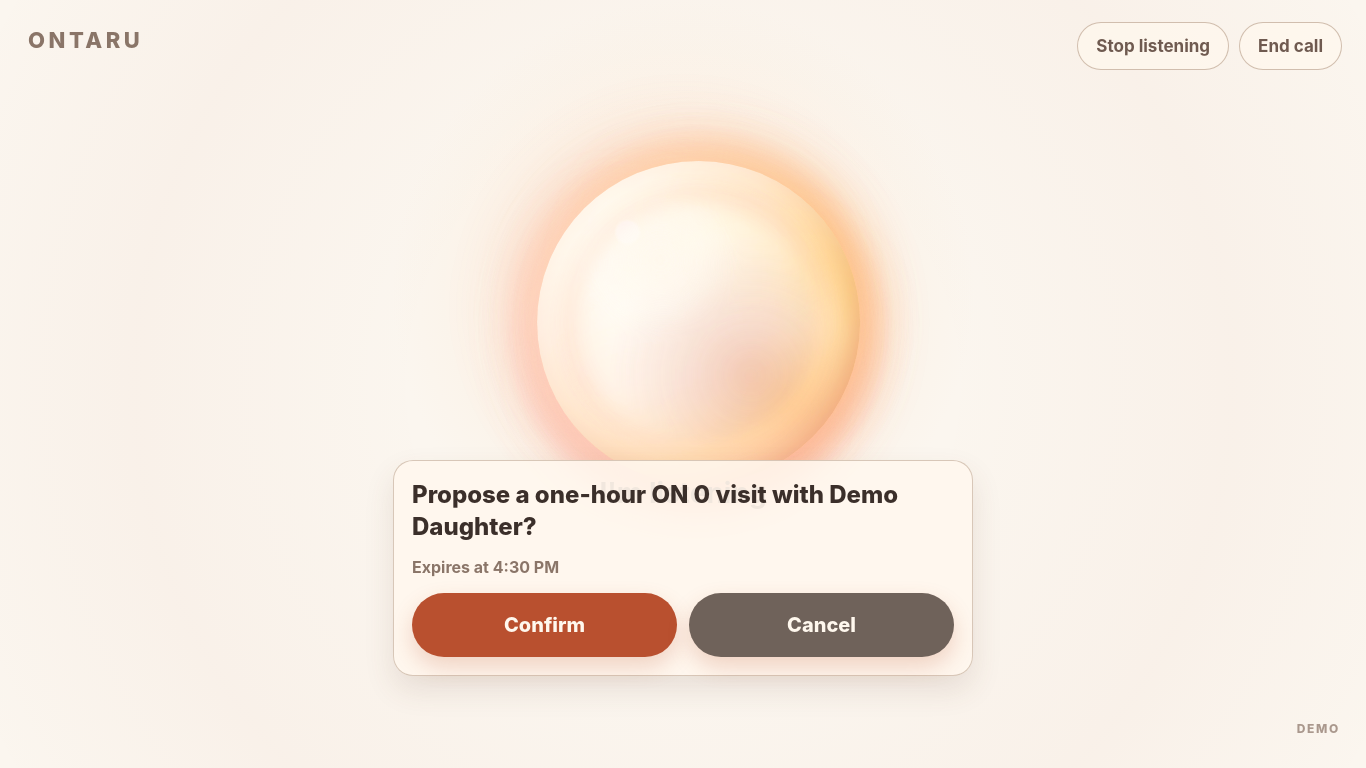
Scenario: resident assistant surface › HTTP 410 clears the stale confirmation and announces that it expired
Click the button "Confirm".
click(544, 625)  # box [412,593,677,657]
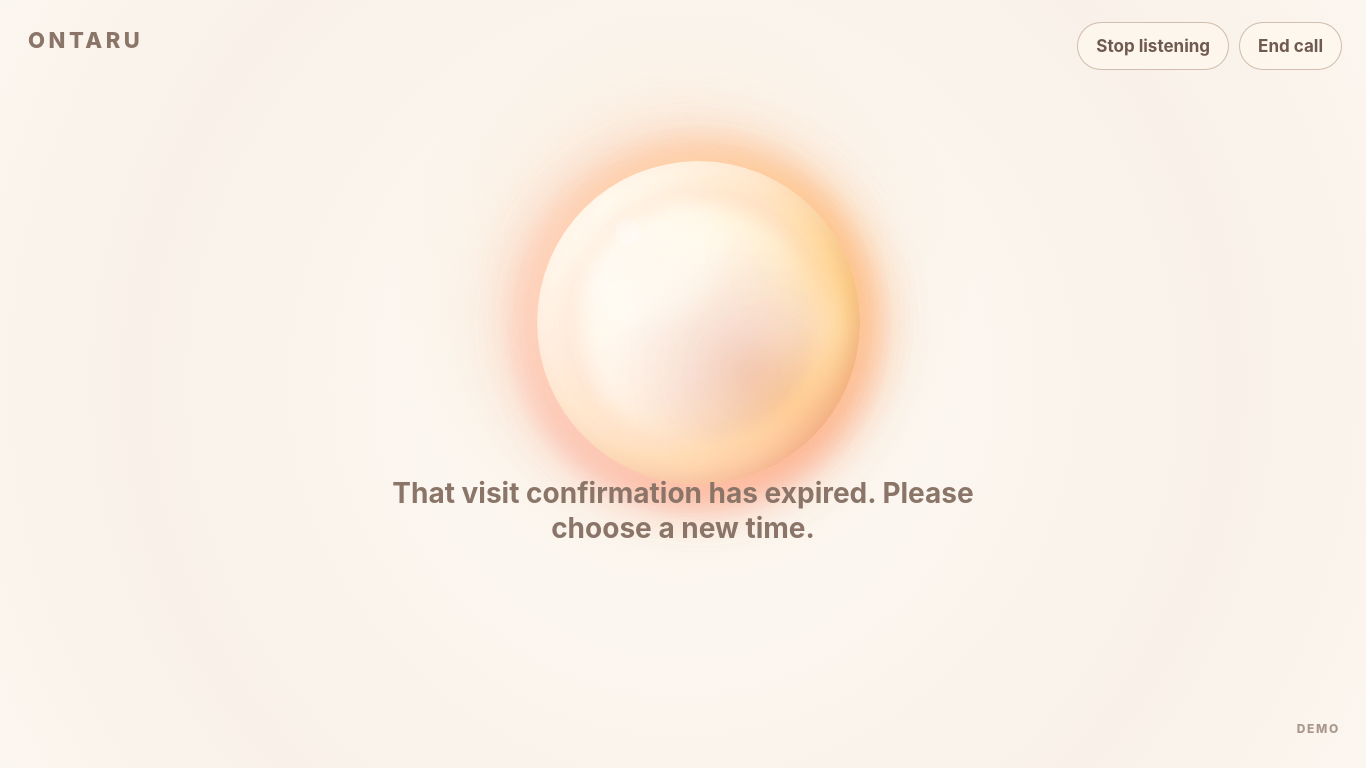
Expected: the message shows "expired", [392,476,974,545]
